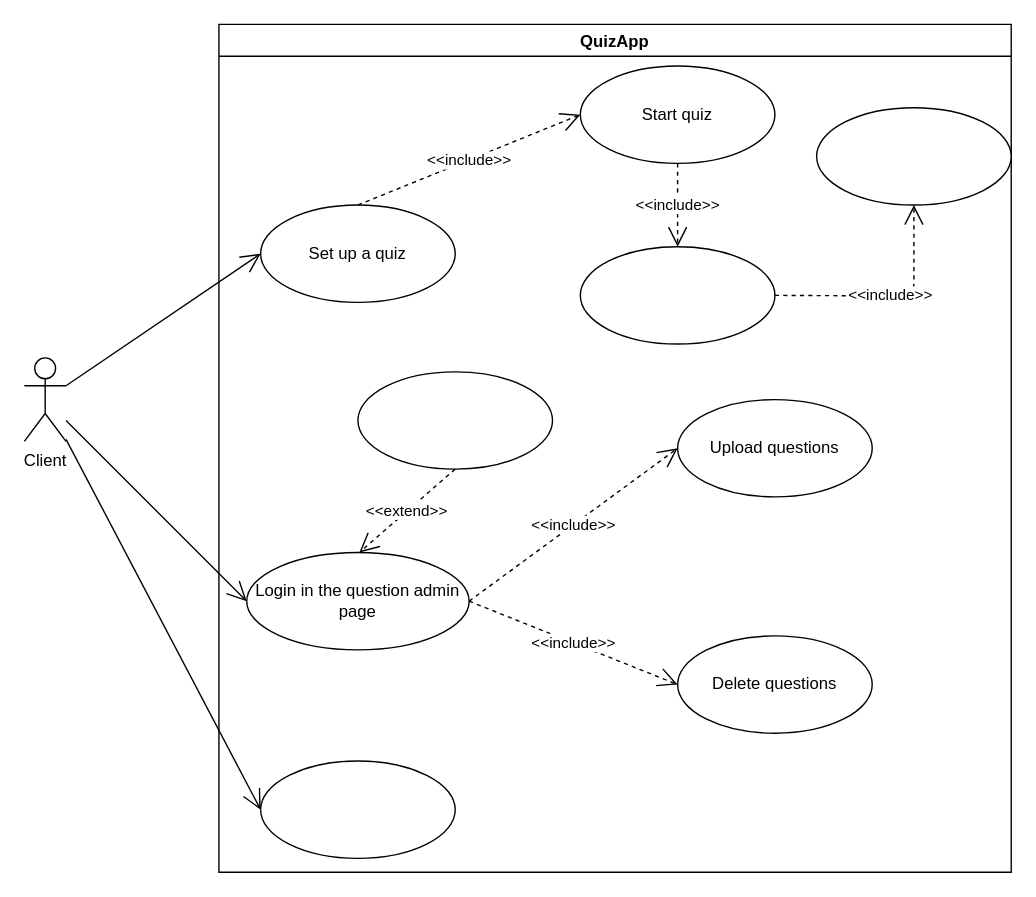
The diagram is 1036 pixels wide and 897 high, and some of its shapes have lost their labels. The centre of each missing label's shape, as x and y in pixels:
"Go to github repository" goes at (357,809).
"Show feedback" goes at (677,294).
"Show scores" goes at (913,155).
"Verify login" goes at (455,419).
